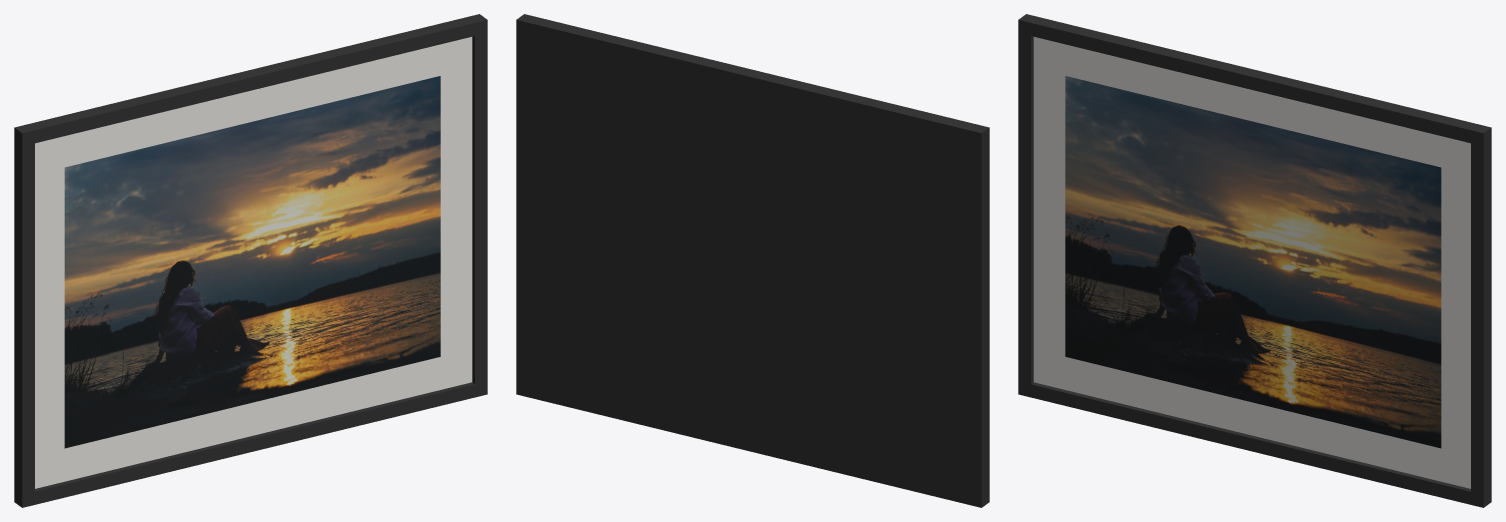
The model's file is kvallen-60.gltf.
The picture shows the model from 3 angles, left to right: view 1: azimuth 30°, elevation 25°; view 2: azimuth 150°, elevation 25°; view 3: azimuth 330°, elevation 25°; orthographic projection.
Parts seen in each view (by area): view 1: tavla; view 2: tavla; view 3: tavla.
Boxes of the visible parts, x1,y1,x2,y2 form: tavla: [14, 14, 487, 507]; tavla: [516, 14, 989, 507]; tavla: [1018, 14, 1491, 507].
Bounding box in the file's own units: 0.7429 × 0.5716 × 0.022.
Materials: 3 (1 with a texture image).
